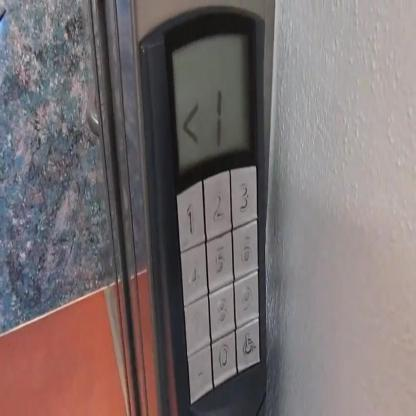-: (186, 342, 213, 405)
0: (210, 331, 236, 389)
1: (175, 181, 206, 252)
2: (202, 168, 232, 242)
3: (230, 164, 258, 226)
4: (180, 242, 209, 306)
5: (205, 230, 234, 294)
6: (232, 219, 258, 282)
8: (208, 282, 236, 342)
9: (234, 271, 258, 330)
CH: (235, 317, 260, 372)
blur: (183, 294, 211, 357)
led: (162, 12, 258, 193)
